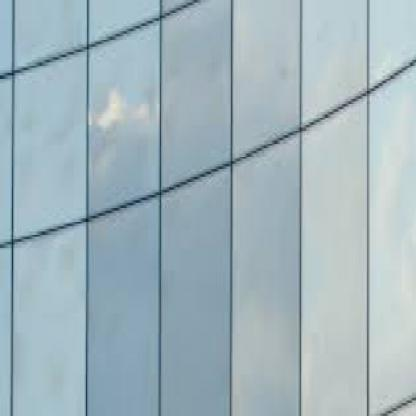window: (306, 140, 364, 411), (235, 166, 296, 414), (165, 200, 227, 411), (90, 223, 157, 410), (14, 247, 82, 411), (374, 104, 412, 385), (14, 76, 82, 218), (91, 49, 156, 190), (164, 26, 224, 156), (239, 16, 293, 120), (309, 13, 357, 75)
